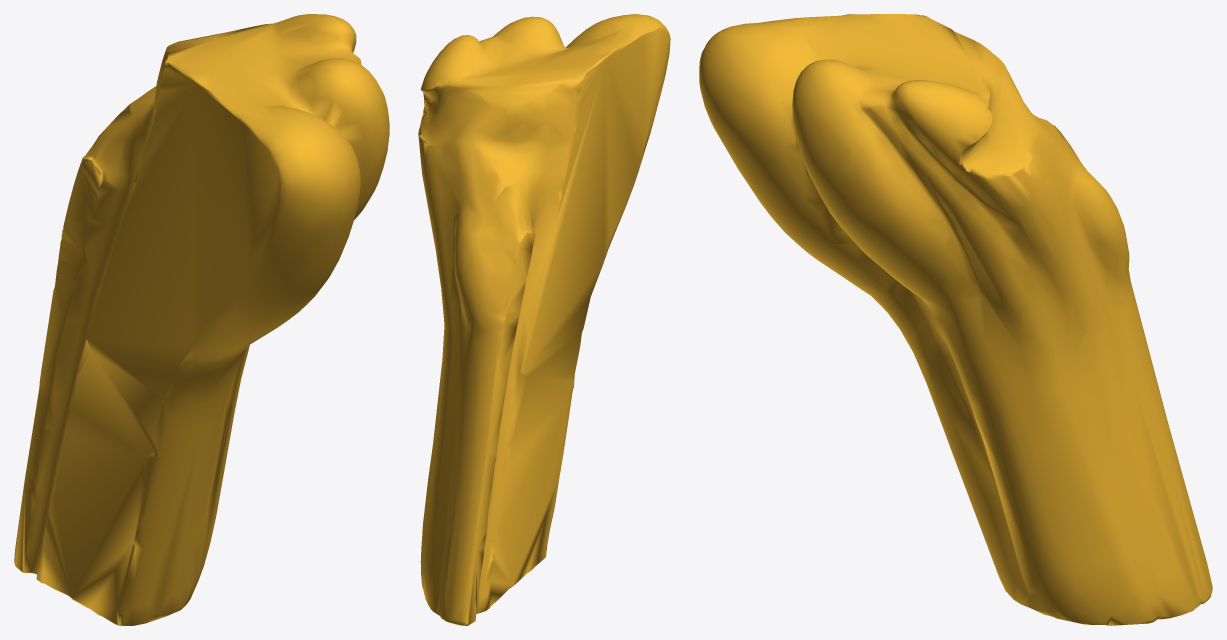
The model's file is nervoso-medulla-oblongata-l.glb.
The picture shows the model from 3 angles, left to right: view 1: azimuth 30°, elevation 25°; view 2: azimuth 150°, elevation 25°; view 3: azimuth 270°, elevation 25°; orthographic projection. The views are drawn at different scales.
Visible parts, largest first — view 1: Medulla oblongata.l; view 2: Medulla oblongata.l; view 3: Medulla oblongata.l.
Boxes of the visible parts, box(x1,y1,x2,y2) form: Medulla oblongata.l: box(14, 14, 389, 625); Medulla oblongata.l: box(418, 14, 670, 625); Medulla oblongata.l: box(699, 14, 1212, 625).
Size of the model in its own units: 0.013 by 0.04 by 0.0322.
